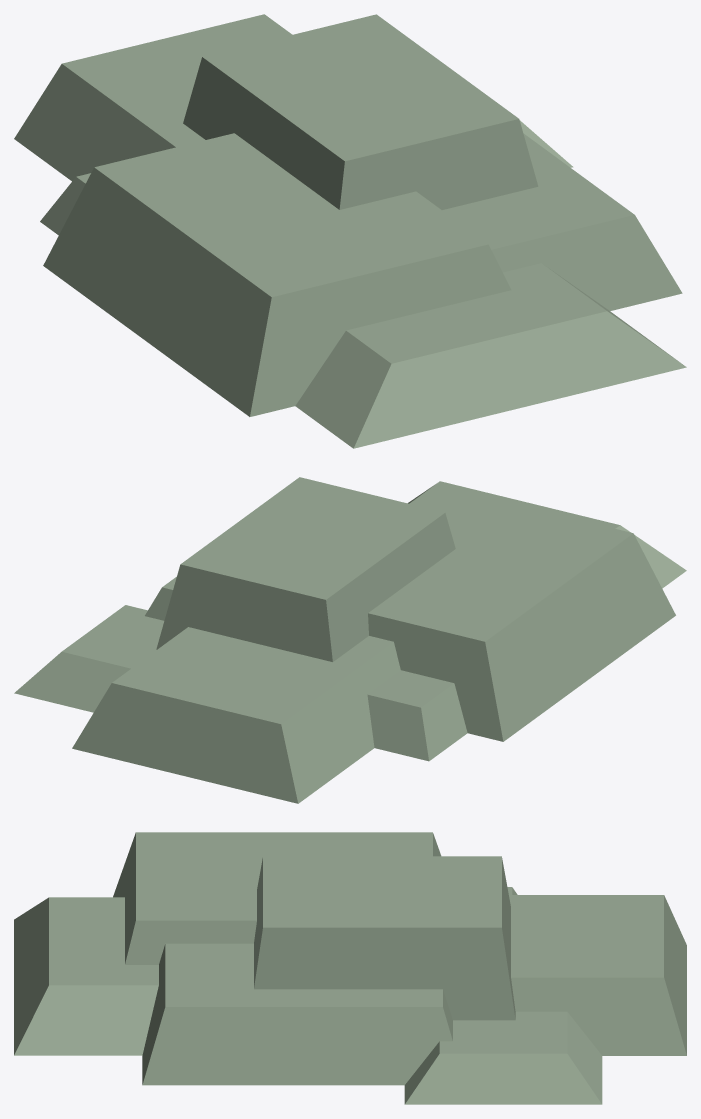
The model's file is rock_brown_01.fbx.
3 views of the same model, one above another, from view 1: azimuth 30°, elevation 25°; view 2: azimuth 150°, elevation 25°; view 3: azimuth 270°, elevation 25° (orthographic). The views are drawn at different scales.
Parts seen in each view (by area): view 1: rock_brown_01; view 2: rock_brown_01; view 3: rock_brown_01.
Part boxes in pixels (x1,y1,x2,y2): rock_brown_01: (14, 14, 686, 448); rock_brown_01: (14, 477, 686, 803); rock_brown_01: (14, 832, 686, 1104).
Size of the model in its own units: 2.67 by 0.7384 by 3.74.
